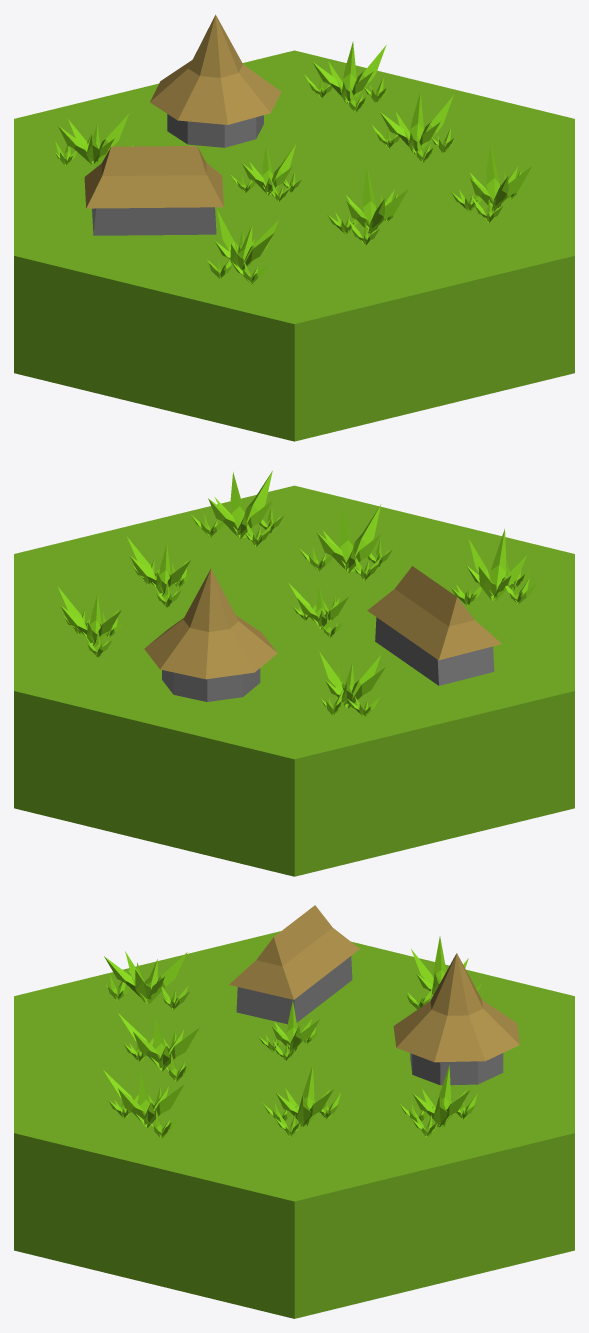
Rendered from Casas_Sabana_2.fbx.
3 renders of one model, top to bottom at view 1: azimuth 30°, elevation 25°; view 2: azimuth 150°, elevation 25°; view 3: azimuth 270°, elevation 25°, orthographic.
Parts seen in each view (by area): view 1: Casas_Sabana_2; view 2: Casas_Sabana_2; view 3: Casas_Sabana_2.
Part boxes in pixels (<box>): Casas_Sabana_2: <box>14,14,574,441</box>; Casas_Sabana_2: <box>14,471,574,876</box>; Casas_Sabana_2: <box>14,905,574,1318</box>.
Size of the model in its own units: 200 by 78.5 by 173.
